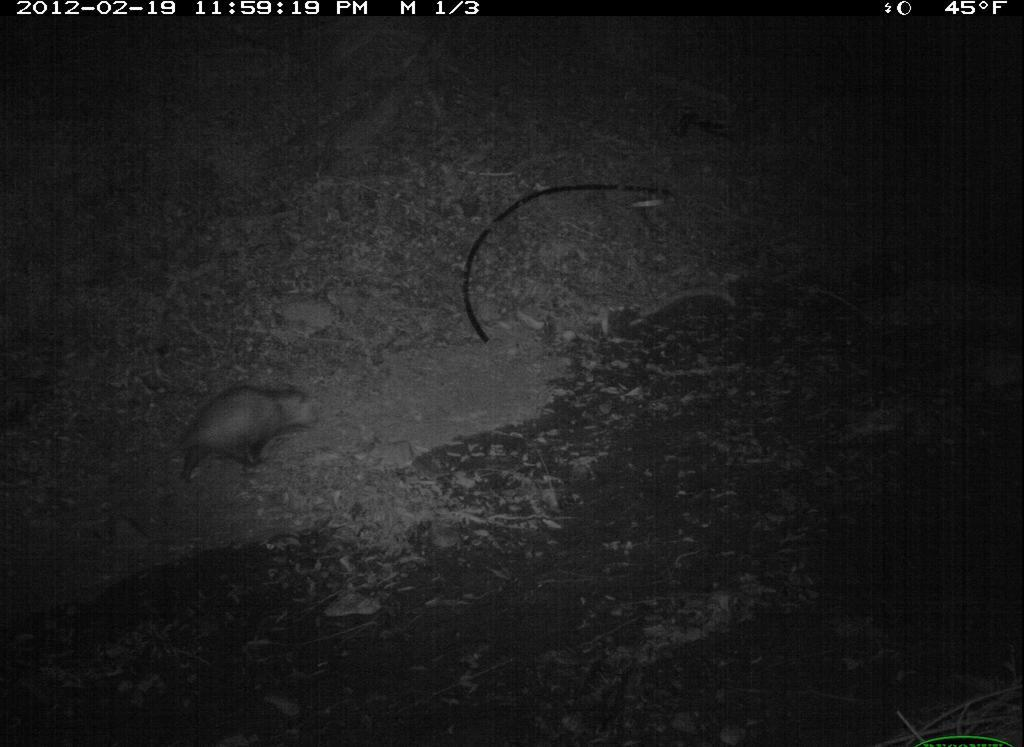opossum: (136, 378, 332, 496)
